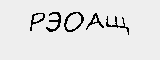А: (83, 10, 105, 30)
О: (61, 9, 84, 34)
Р: (27, 9, 45, 33)
Щ: (104, 11, 131, 35)
Э: (42, 10, 61, 34)
